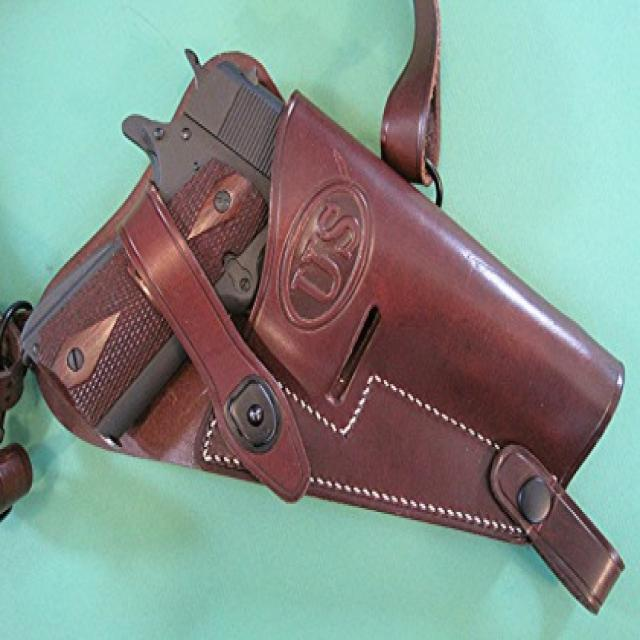gun: (8, 32, 623, 540)
